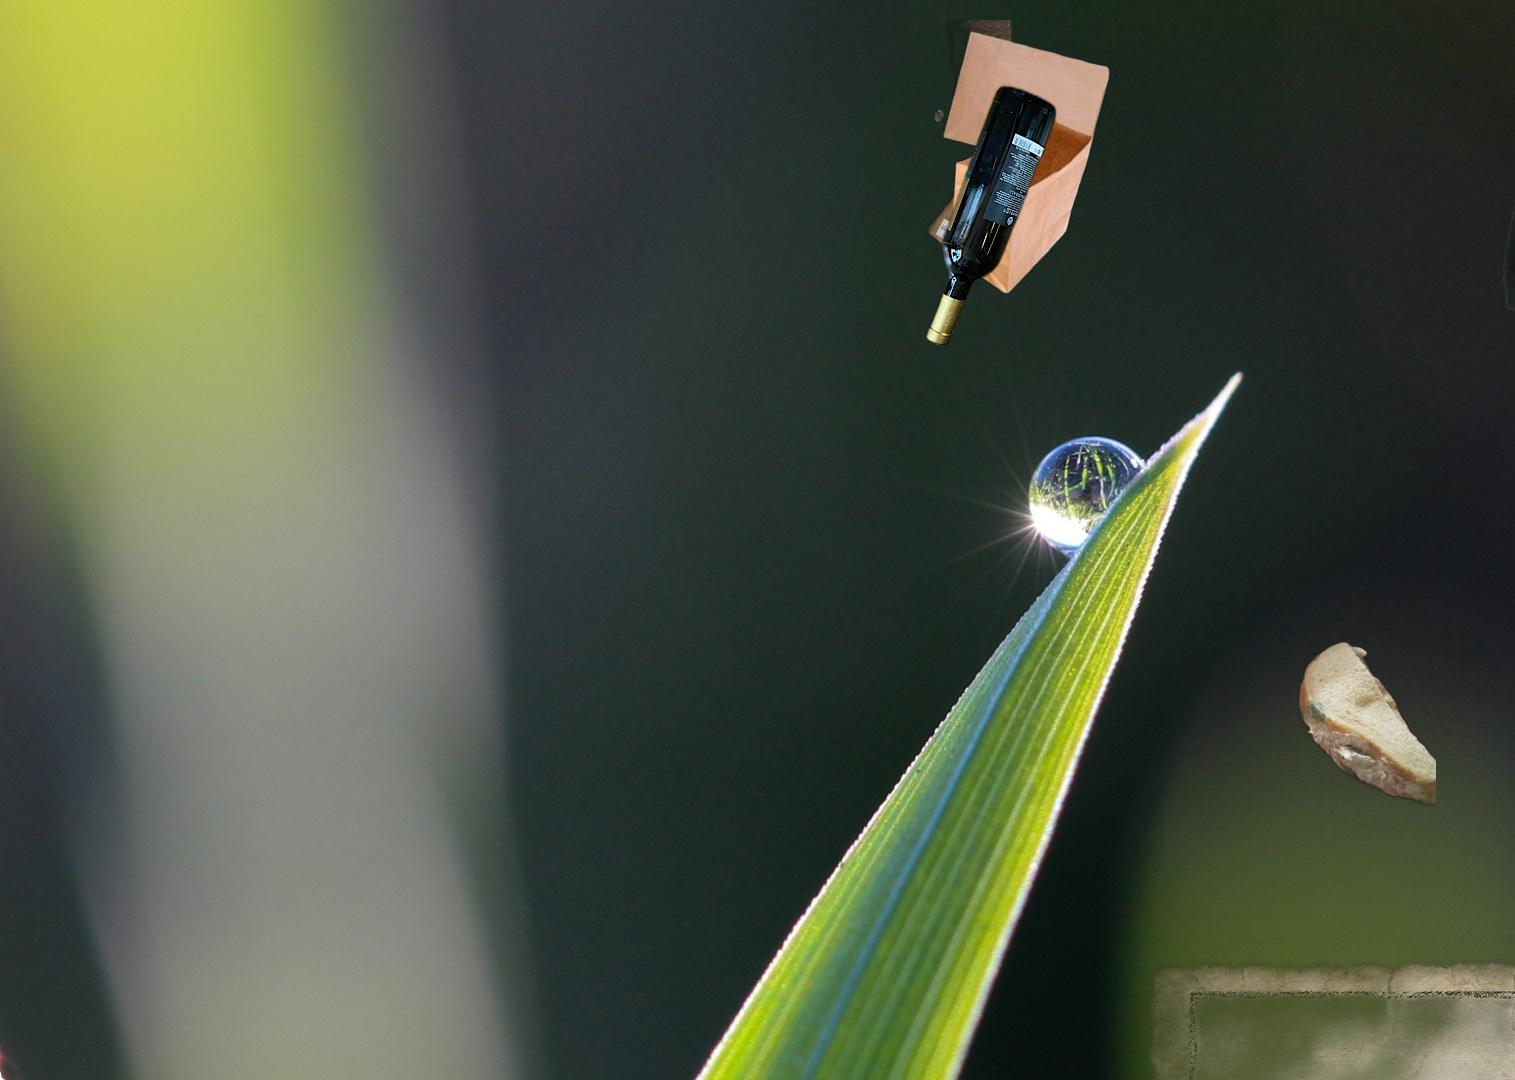biological: (1298, 639, 1436, 816)
clothes: (1499, 22, 1515, 325)
glass: (921, 79, 1061, 352)
paper-bag: (923, 20, 1113, 297)
trashbox-cardboard: (1125, 934, 1515, 1080)
